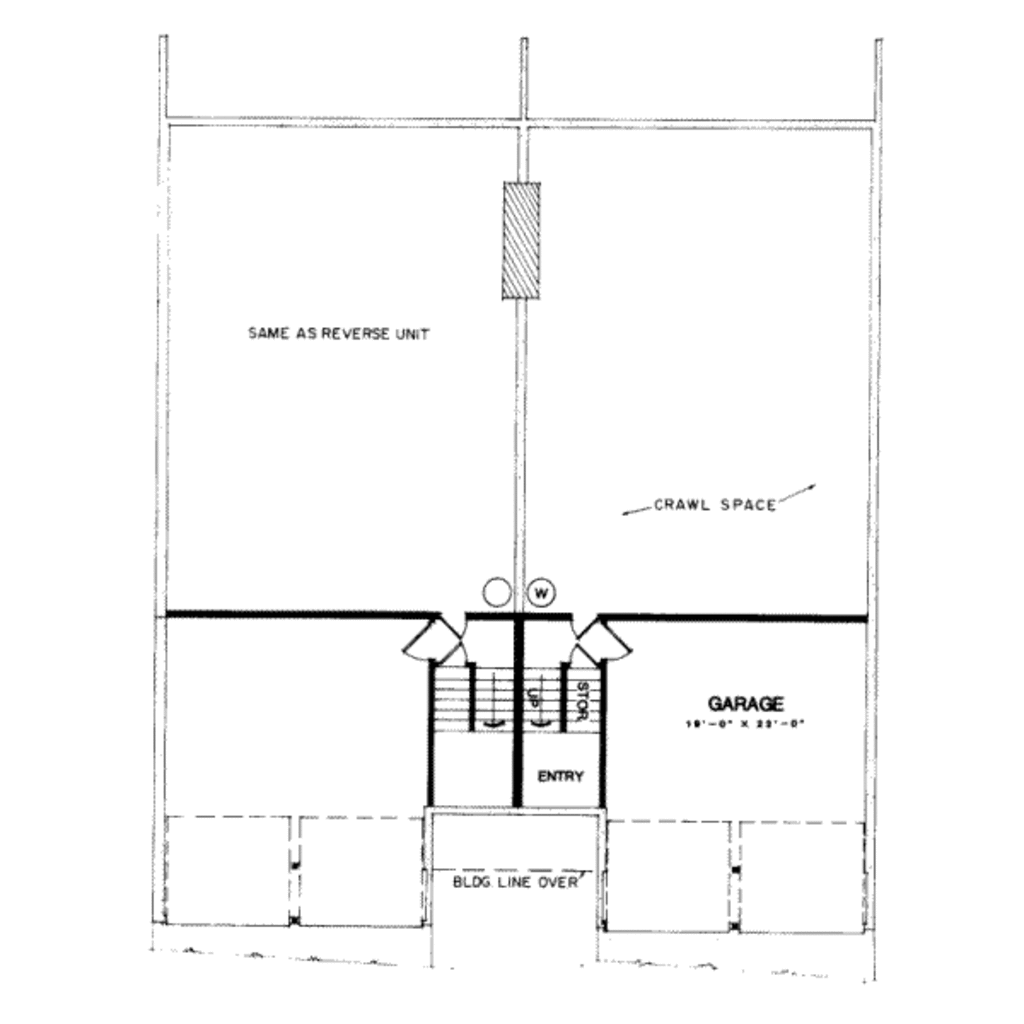door: (577, 613, 633, 663), (403, 619, 459, 663), (569, 642, 598, 667), (445, 639, 470, 666)
stairs: (436, 669, 608, 808)
